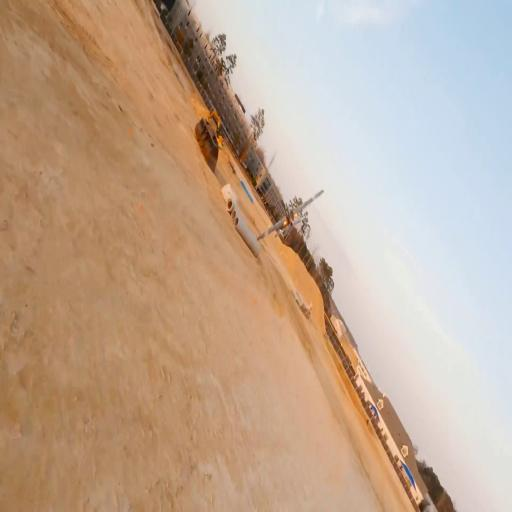uav: (256, 182, 327, 248)
